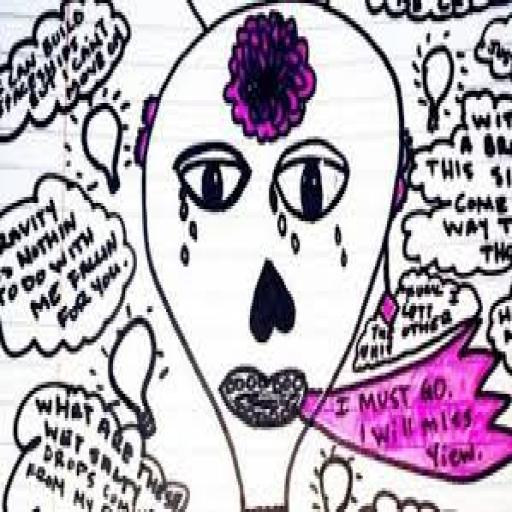person: (131, 0, 408, 509)
